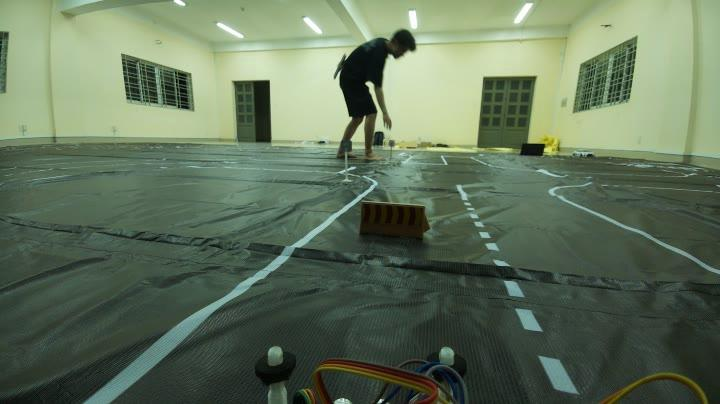roadblock: (352, 198, 436, 248)
